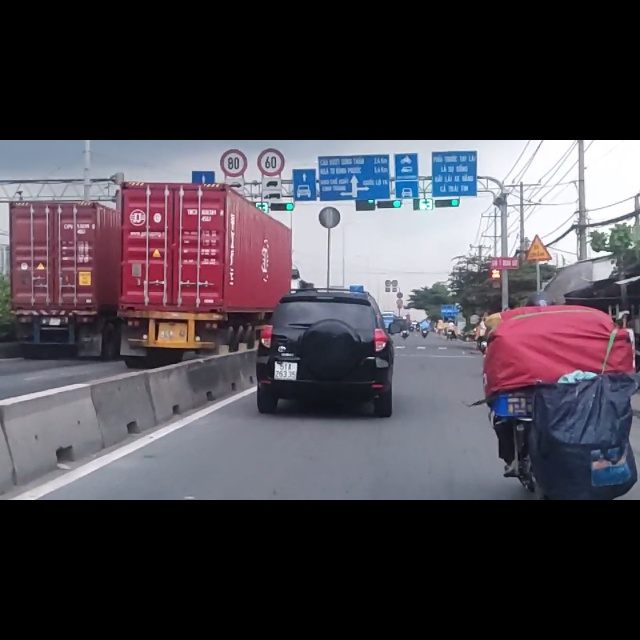bien_chi_dan: (219, 17, 248, 66), (257, 15, 285, 65), (525, 168, 552, 217)
